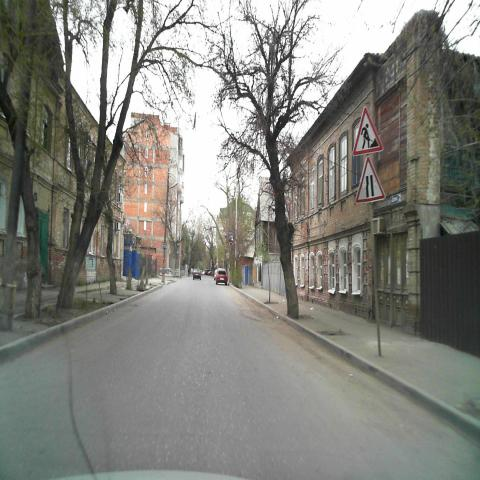1_20_3: (352, 156, 386, 204)
